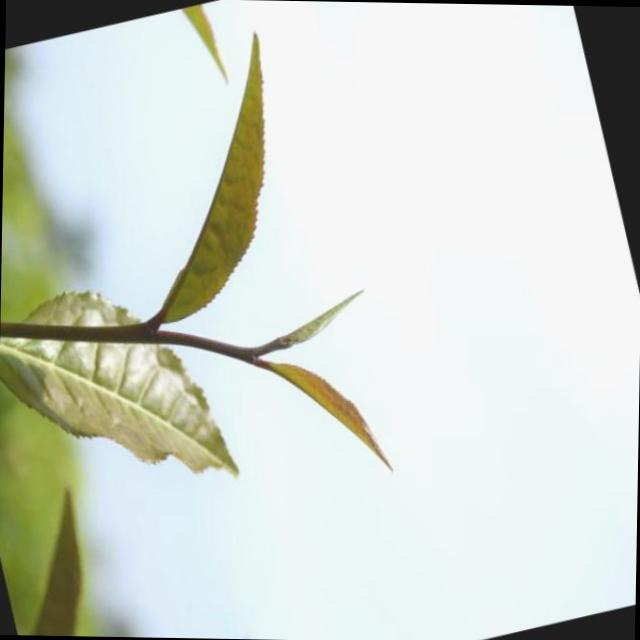Stem: (199, 334, 241, 359)
